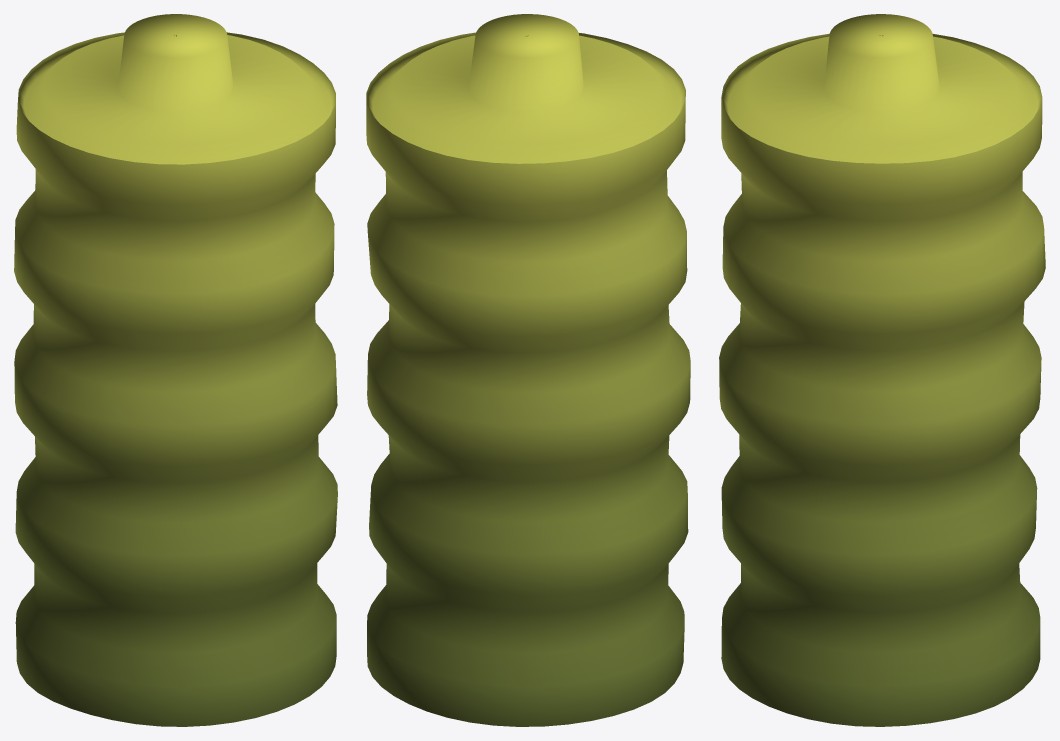
The model's file is battery.fbx.
3 views of the same model, side by side, from view 1: azimuth 30°, elevation 25°; view 2: azimuth 150°, elevation 25°; view 3: azimuth 270°, elevation 25° (orthographic).
Visible parts, largest first — view 1: battery; view 2: battery; view 3: battery.
Boxes of the visible parts, x1=… form: battery: x1=14, y1=14, x2=337, y2=726; battery: x1=366, y1=14, x2=690, y2=726; battery: x1=719, y1=14, x2=1045, y2=726.
Size of the model in its own units: 0.0397 by 0.085 by 0.0399.
Materials: 1 (1 with a texture image).
